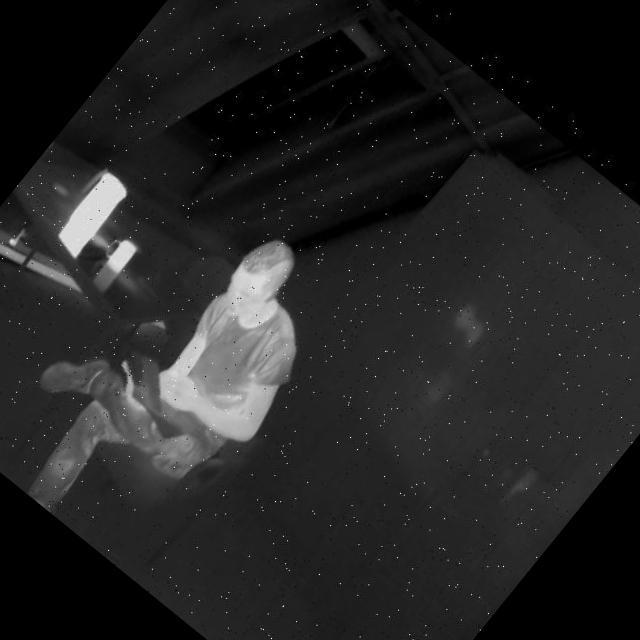person: (0, 166, 369, 585)
